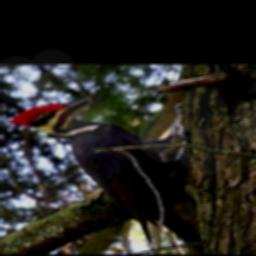Woodpecker: (7, 94, 209, 253)
